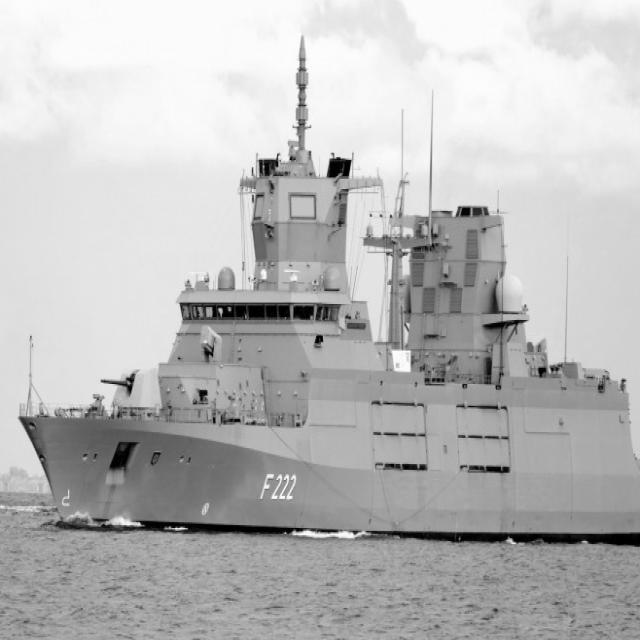Fragata: (21, 153, 640, 550)
